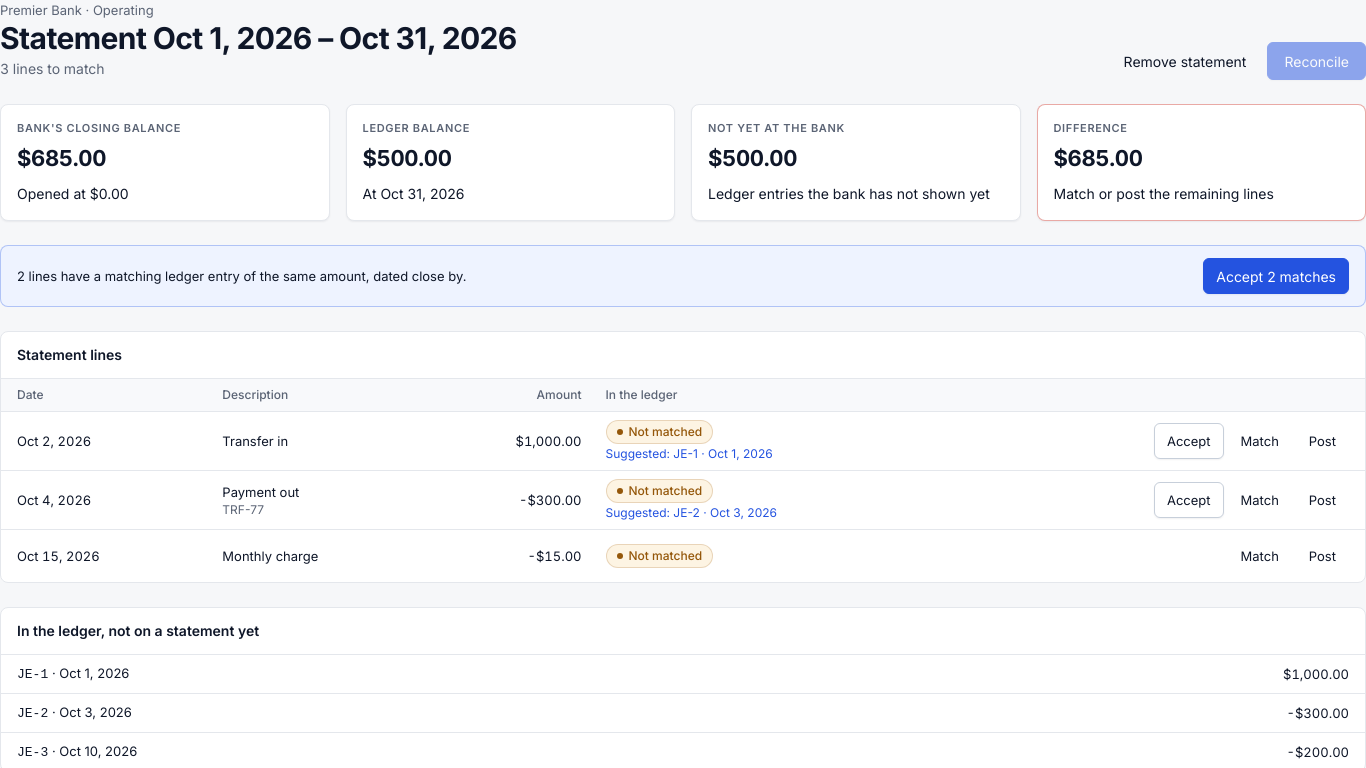
Test: StatementWorkspace (Step 6) › leads with the numbers, accepts the suggested matches, and holds Reconcile until balanced
Expected: the text "Bank's closing balance" is shown, [17,121,181,135]
Expected: the text "3 lines to match" is shown, [0,60,105,77]
Click the button "Accept 2 matches": (1276, 276) [1203,258,1349,294]
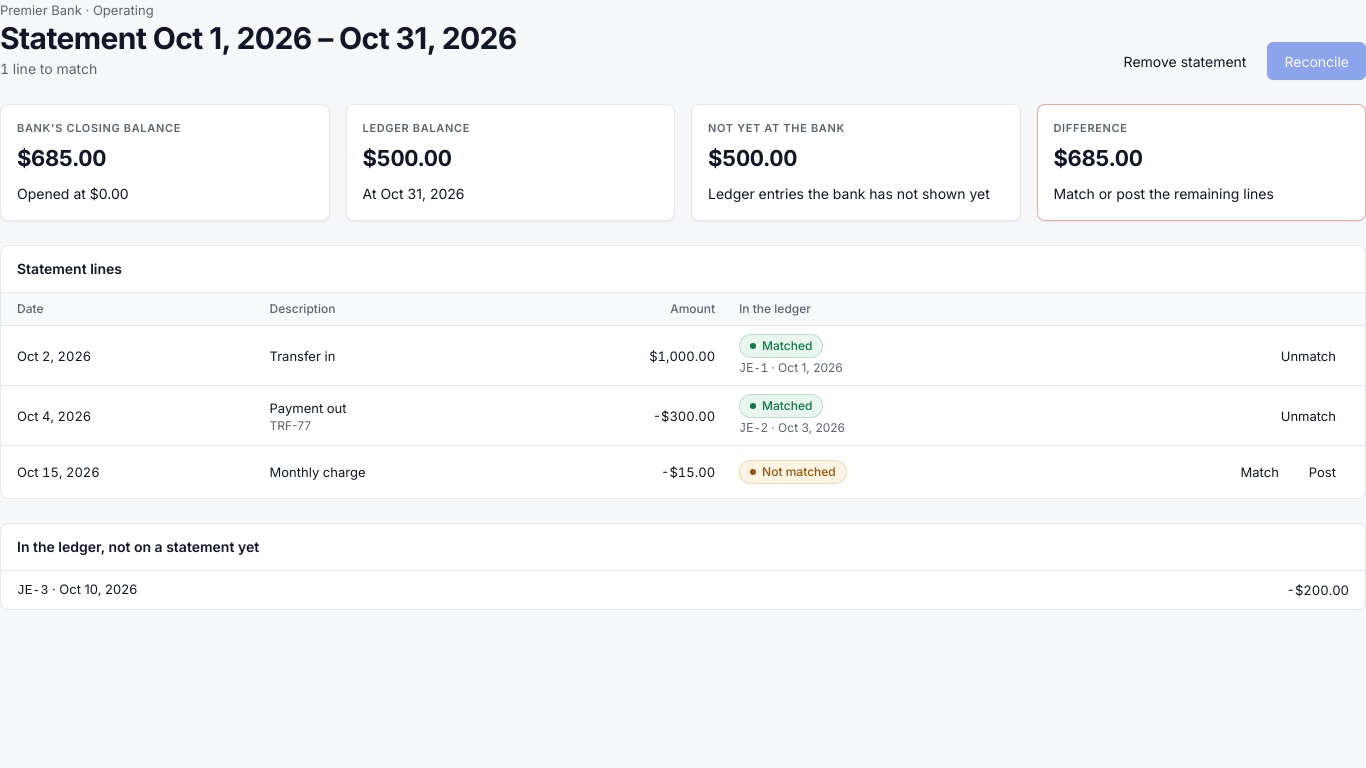
Expected: the text "Matched" is shown 2 times, [739,334,823,358]; [739,394,823,418]
Click the button "Match": (1260, 472) [1228,454,1292,490]
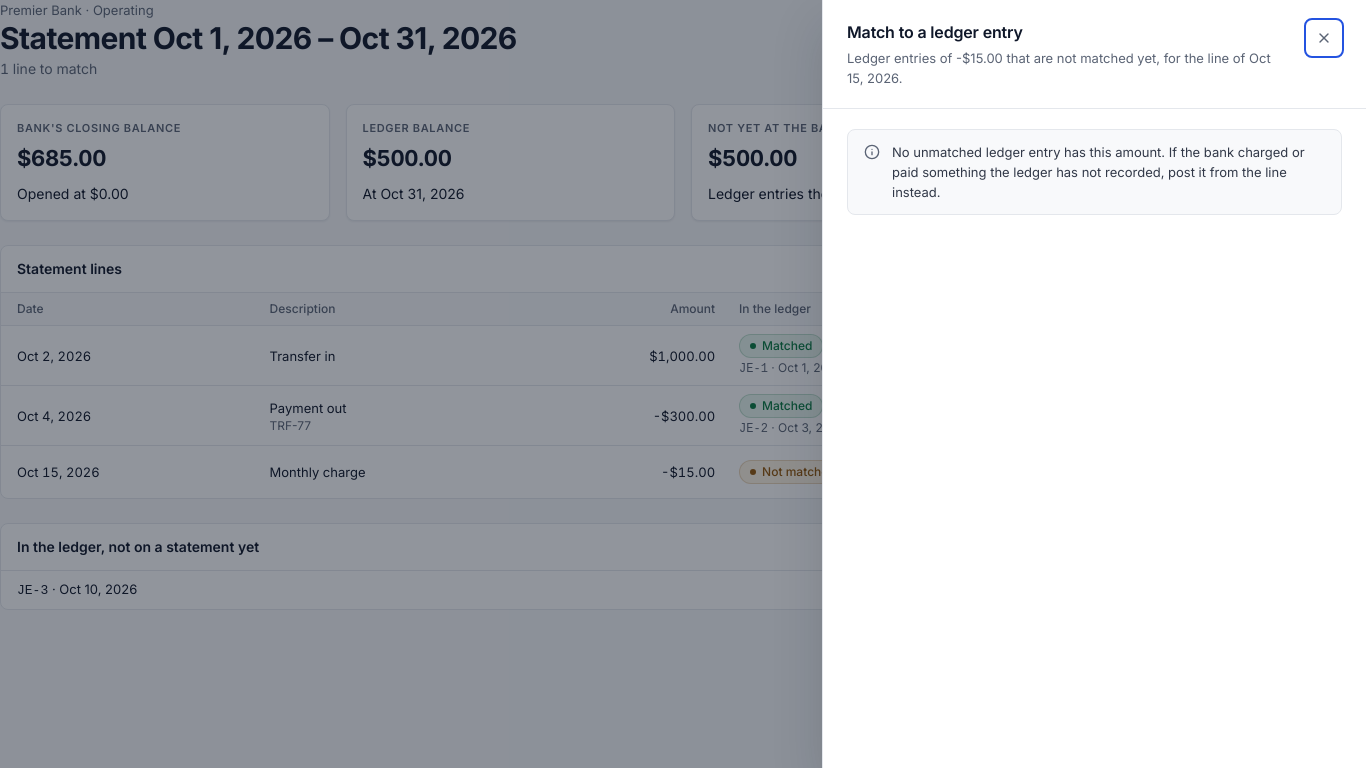
Result: the text "No unmatched ledger entry has this amount" is shown at [892,144,1305,200]
